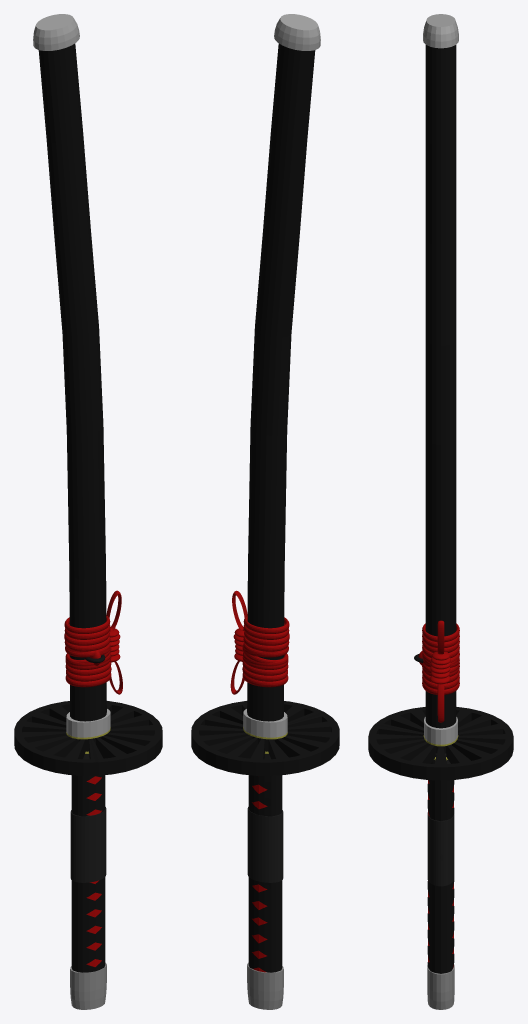
Rendered from tanjiro-katana.glb.
3 renders of one model, left to right at view 1: azimuth 30°, elevation 25°; view 2: azimuth 150°, elevation 25°; view 3: azimuth 270°, elevation 25°, orthographic. The views are drawn at different scales.
Visible parts, largest first — view 1: Saya_1_3, Katana_0_1; view 2: Saya_1_3, Katana_0_1; view 3: Saya_1_3, Katana_0_1.
Boxes of the visible parts, <box> form: Saya_1_3: <box>33,14,122,737</box>; Katana_0_1: <box>14,701,162,1009</box>; Saya_1_3: <box>230,14,320,737</box>; Katana_0_1: <box>191,701,339,1009</box>; Saya_1_3: <box>414,14,459,744</box>; Katana_0_1: <box>368,707,513,1009</box>.
Size of the model in its own units: 0.3534 by 2.6 by 0.3534.
1 material, 1 textured.
